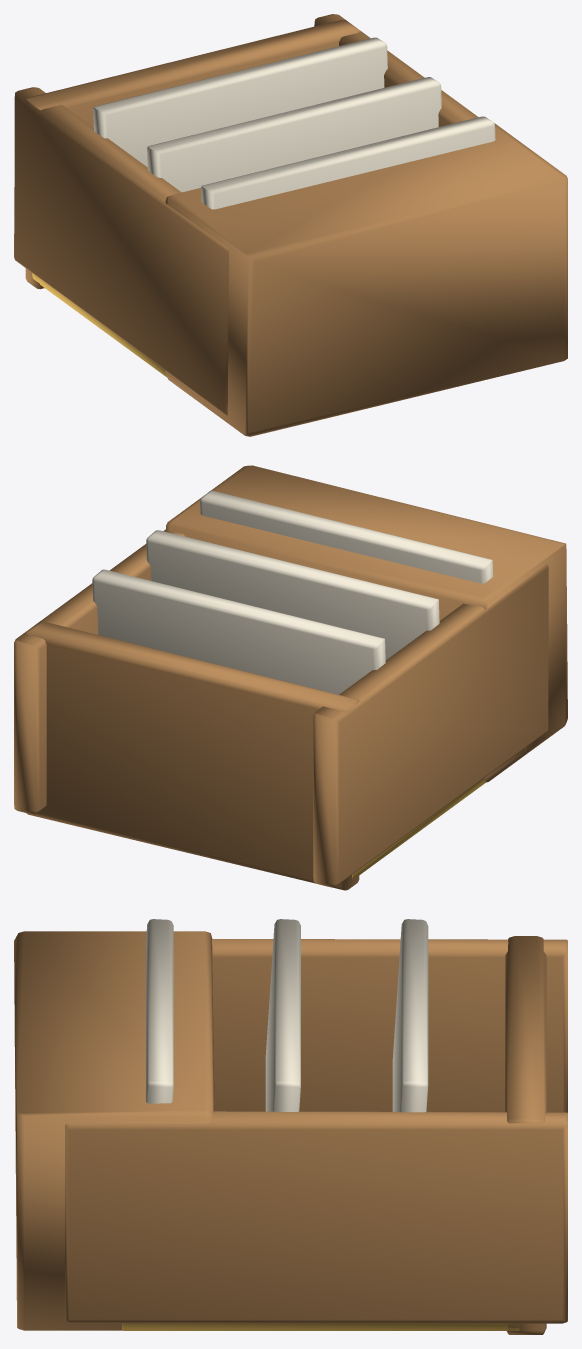
File: display_eggs.glb
3 renders of one model, top to bottom at view 1: azimuth 30°, elevation 25°; view 2: azimuth 150°, elevation 25°; view 3: azimuth 270°, elevation 25°, orthographic. The views are drawn at different scales.
Visible parts, largest first — view 1: Stand, SidePost, EggTray.002, EggTray.001, Canopy, EggTray, SidePost.001, Backboard; view 2: Canopy, SidePost, Stand, EggTray.002, EggTray.001, SidePost.001, EggTray, Backboard; view 3: SidePost.001, Stand, SidePost, Canopy, EggTray.002, EggTray.001, EggTray, Backboard.
Boxes of the visible parts, <box> form: Stand: <box>165,123,567,436</box>; SidePost: <box>14,87,228,415</box>; EggTray.002: <box>93,37,387,166</box>; EggTray.001: <box>147,77,441,192</box>; Canopy: <box>25,20,360,289</box>; EggTray: <box>201,116,495,209</box>; SidePost.001: <box>314,14,478,126</box>; Backboard: <box>32,273,205,402</box>; Canopy: <box>25,621,359,890</box>; SidePost: <box>313,564,548,887</box>; Stand: <box>166,465,567,782</box>; EggTray.002: <box>92,569,385,694</box>; EggTray.001: <box>146,530,439,659</box>; SidePost.001: <box>14,529,184,814</box>; EggTray: <box>200,490,493,583</box>; Backboard: <box>352,747,525,879</box>; SidePost.001: <box>65,1111,567,1323</box>; Stand: <box>14,931,214,1330</box>; SidePost: <box>212,939,567,1112</box>; Canopy: <box>505,936,546,1334</box>; EggTray.002: <box>392,919,428,1112</box>; EggTray.001: <box>265,919,300,1111</box>; EggTray: <box>146,919,173,1103</box>; Backboard: <box>122,1323,519,1330</box>.
Bounding box in the file's own units: 1.5 × 0.9071 × 1.87.
